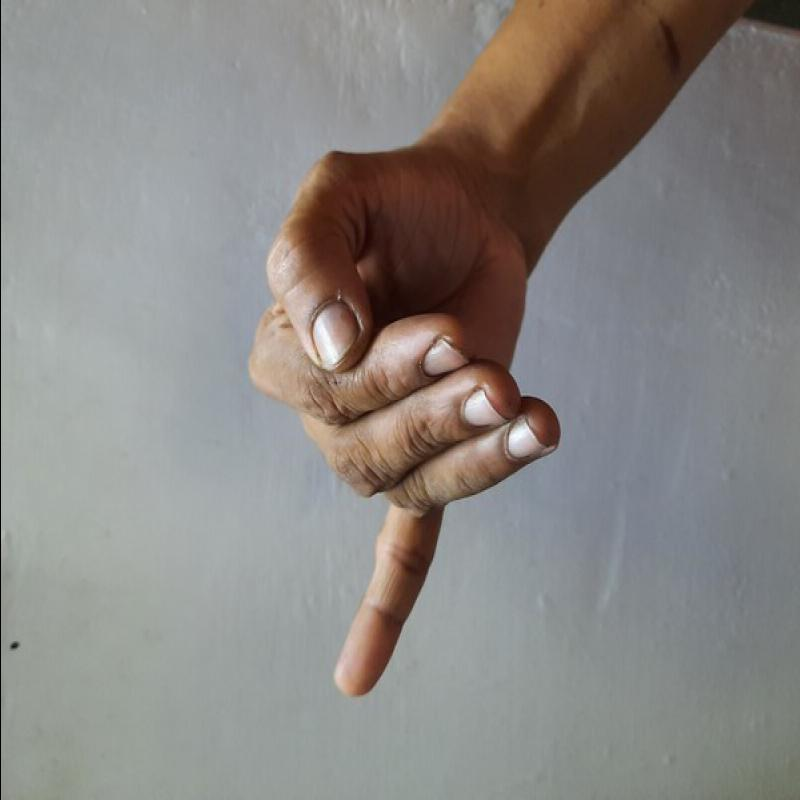Kartharee Mukham: (229, 138, 579, 709)
